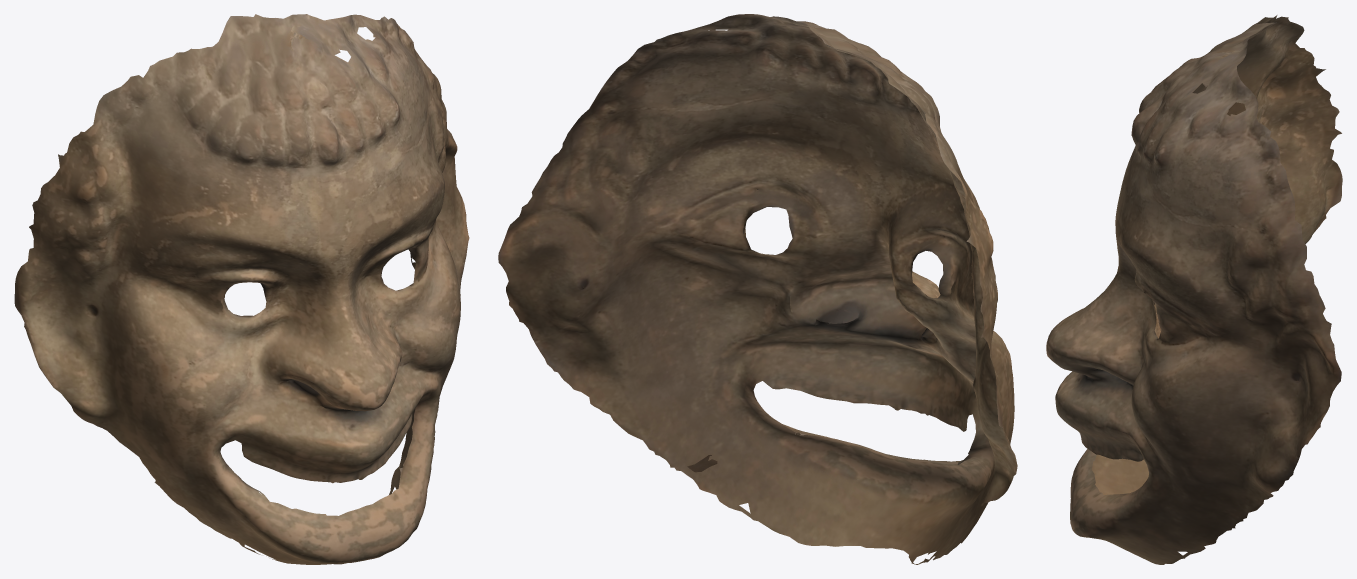
The model's file is old_roman_theater_mask__quick_scan.glb.
3 renders of one model, left to right at view 1: azimuth 30°, elevation 25°; view 2: azimuth 150°, elevation 25°; view 3: azimuth 270°, elevation 25°, orthographic. The views are drawn at different scales.
Visible parts, largest first — view 1: Object_2; view 2: Object_2; view 3: Object_2.
Part boxes in pixels (x1,y1,x2,y2): Object_2: [14, 14, 469, 564]; Object_2: [498, 14, 1017, 564]; Object_2: [1046, 15, 1342, 564].
Size of the model in its own units: 51.27 by 56.29 by 29.61.
1 material, 1 textured.
